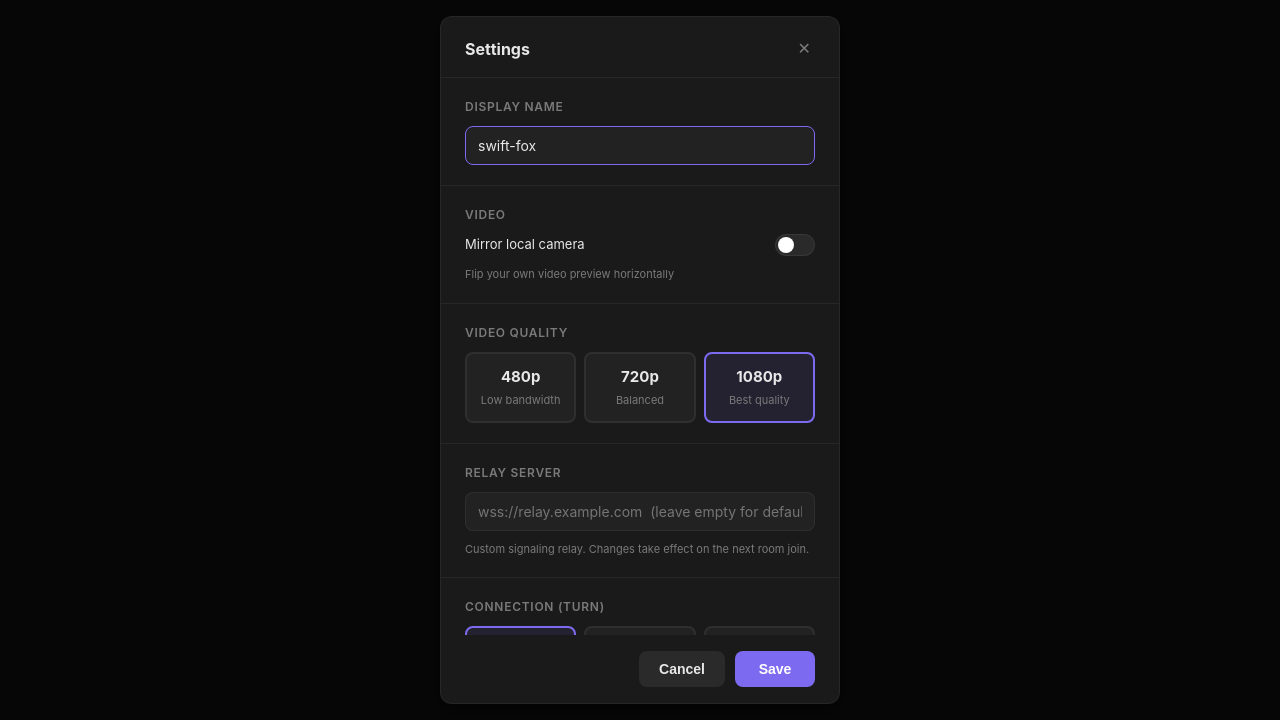
Scenario: SettingsModal — saving › shows "Saved" after saving
Click the button "Save" at (775, 669), box [735,651,815,687]
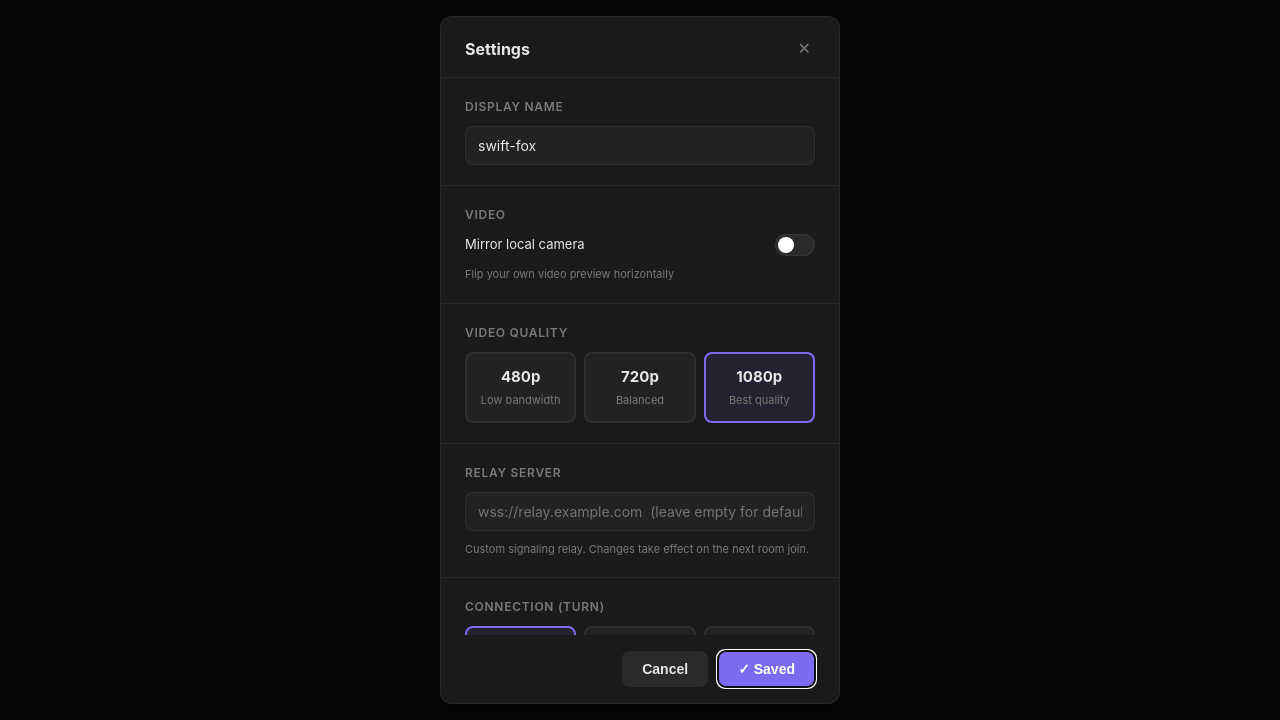
Now the button "✓ Saved" is shown, box [718,651,815,687]
